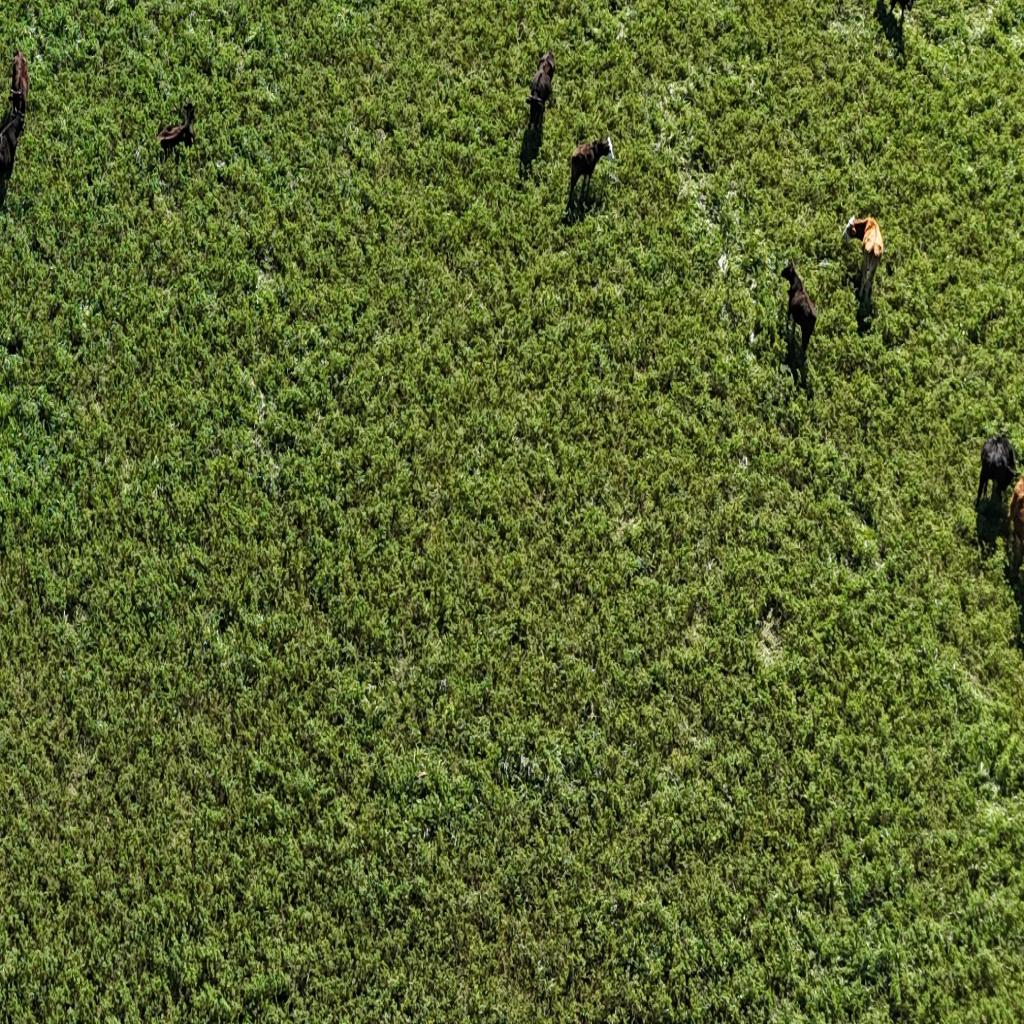cow: (569, 134, 618, 217), (844, 211, 886, 305), (781, 260, 818, 360), (2, 36, 40, 129), (975, 433, 1019, 513), (0, 106, 26, 212), (154, 100, 196, 154), (526, 54, 555, 122), (1006, 471, 1024, 576)
